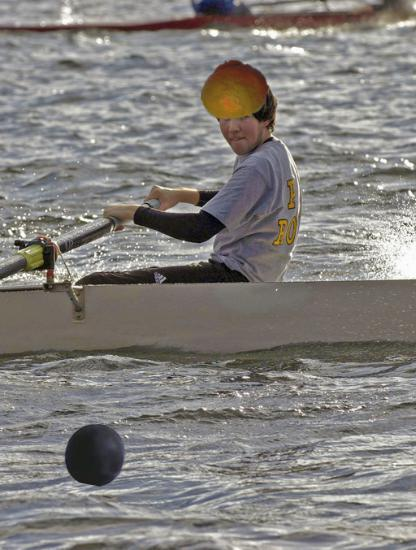Grape: (64, 423, 127, 486)
Mandarine: (201, 56, 269, 124)
